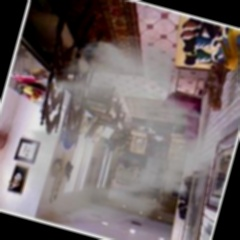smoke: (69, 52, 179, 164)
